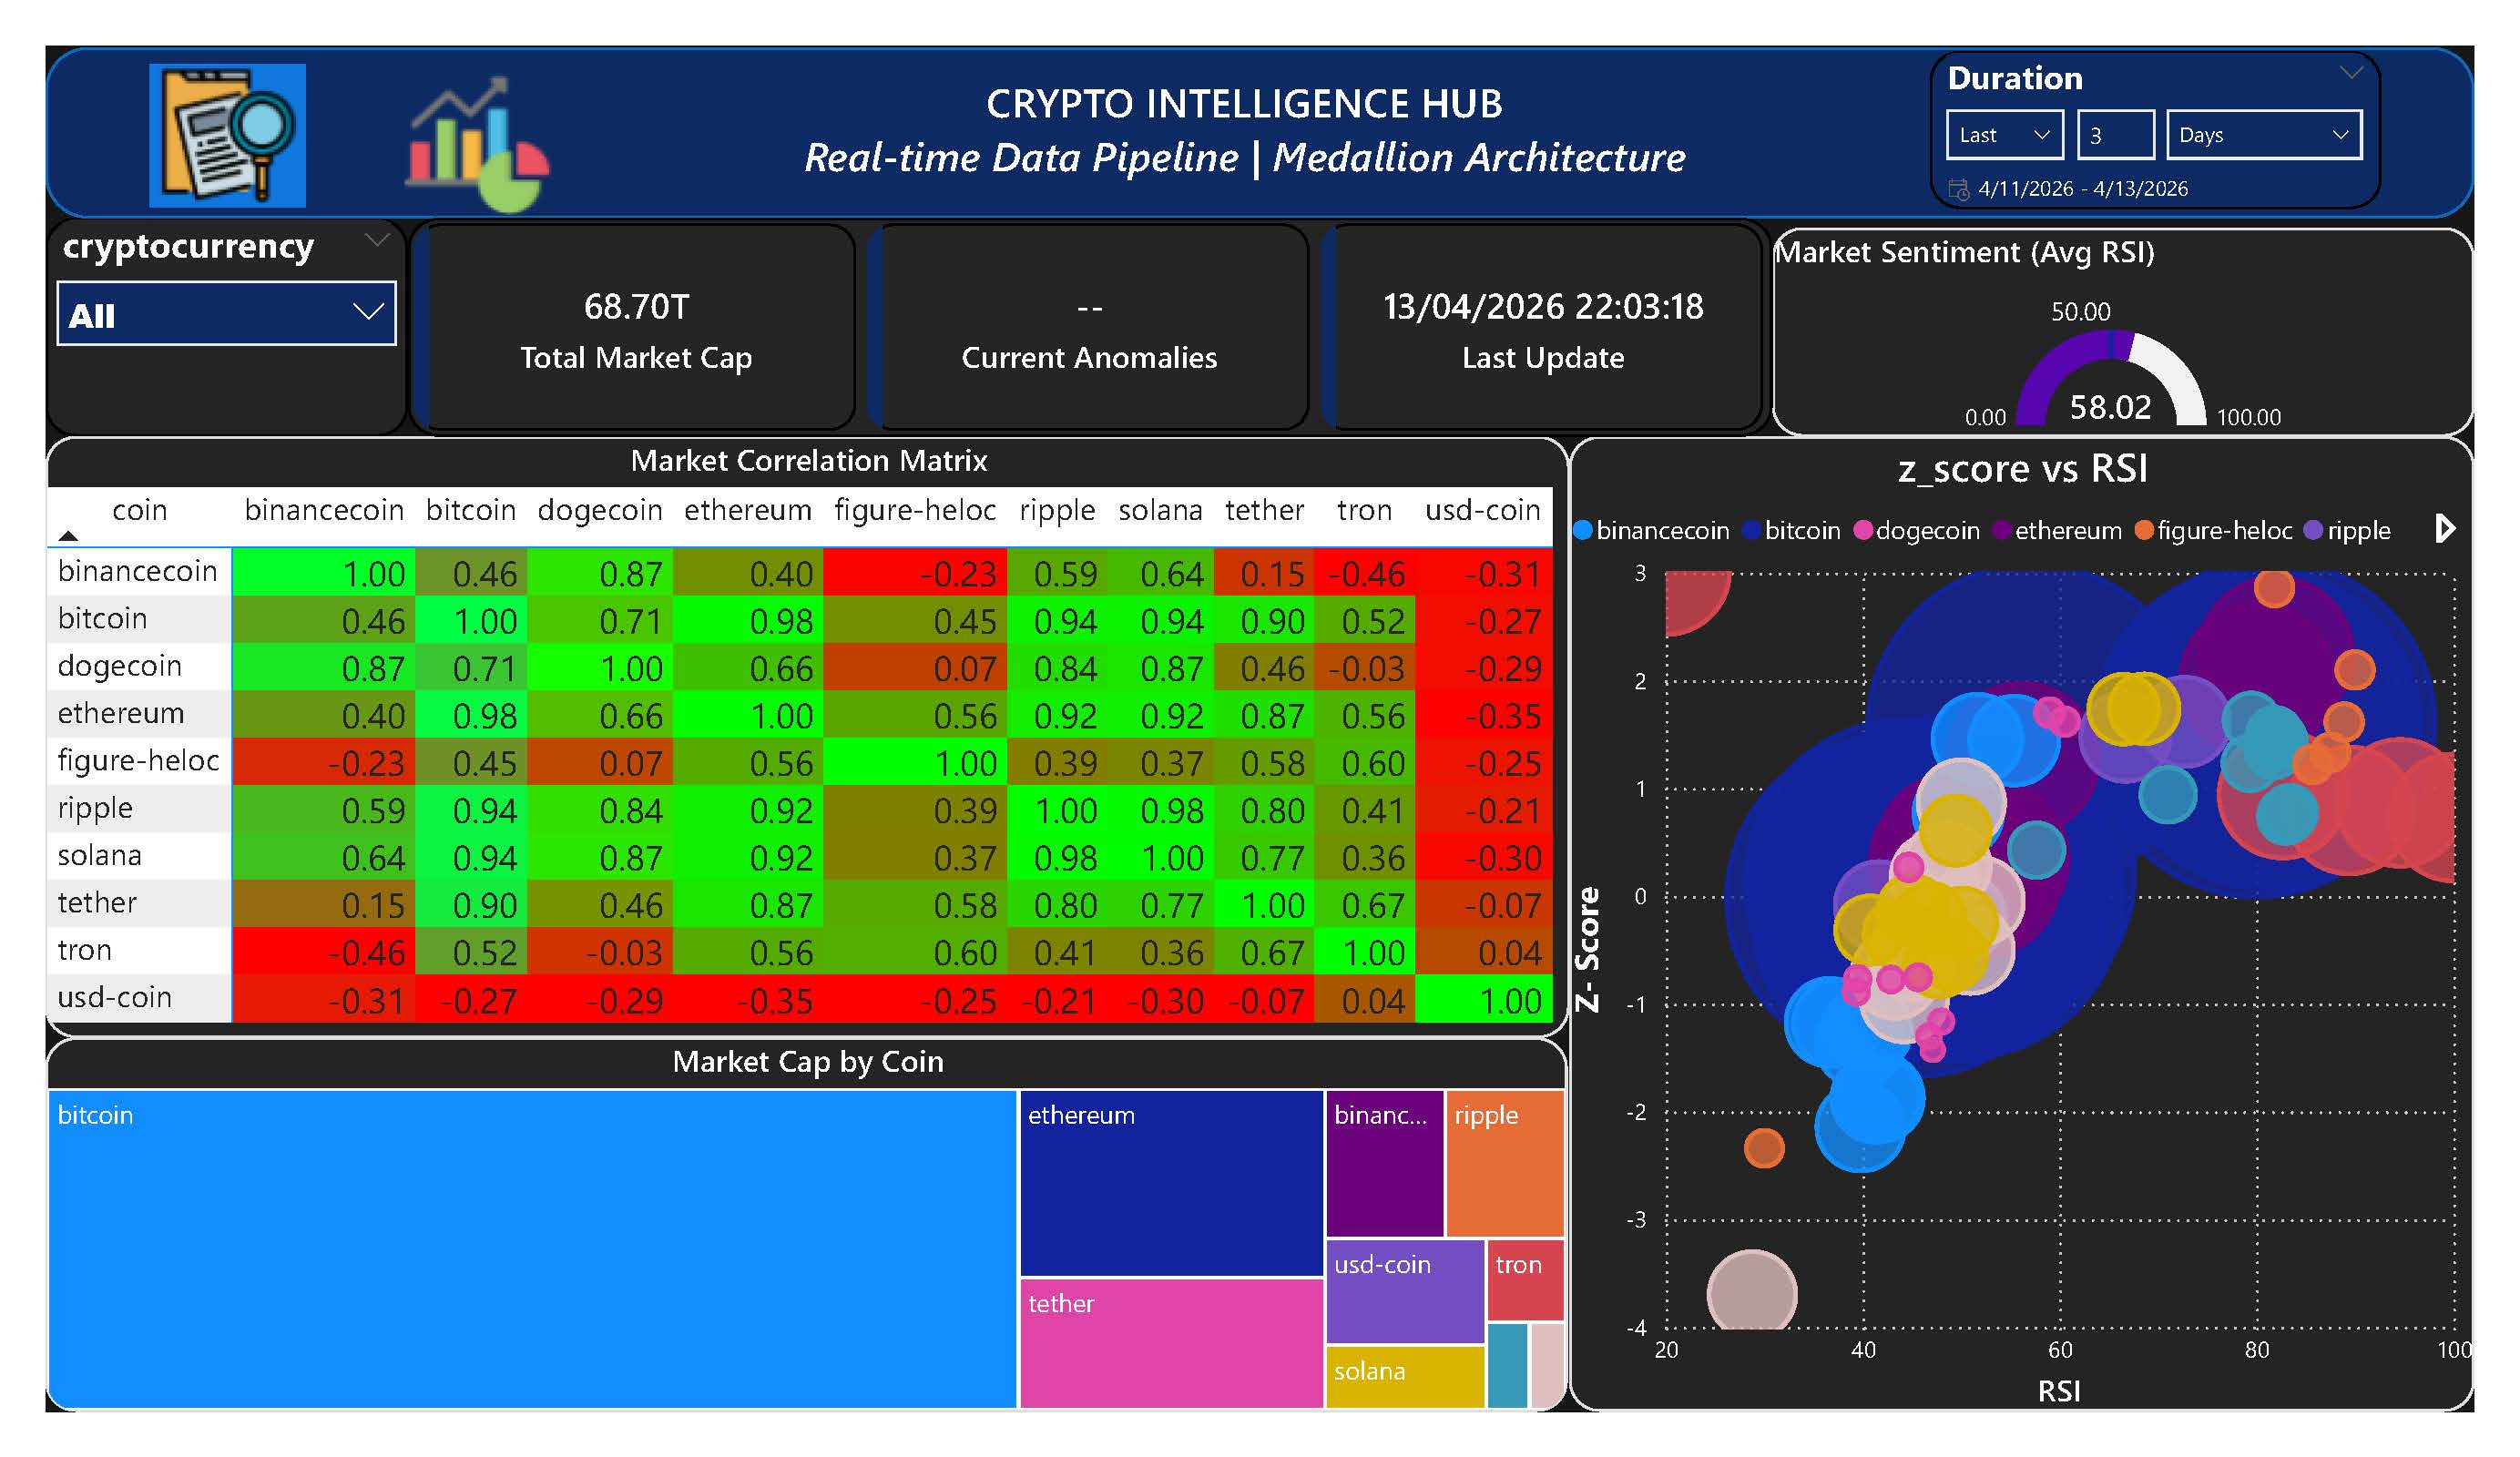

This screenshot's page, from the dashboard's own definition file:
{"tool":"powerbi","page":{"name":"Duplicate of Page 1","canvas":[1280,720],"ordinal":1},"visuals":[{"type":"scatterChart","title":"z_score vs RSI","fields":{"X":["public gold_fact_signals.rsi"],"Y":["Avg(public gold_fact_signals.z_score)"],"Series":["public gold_fact_signals.coin"],"Size":["Avg(public gold_fact_signals.market_cap)"]},"box":[802.9,205.7,477.1,514.3],"z":0},{"type":"slicer","fields":{"Values":["public dim_crypto_prices.coin"]},"box":[0,91.4,191.4,114.3],"z":1000},{"type":"pivotTable","title":"Market Correlation Matrix","fields":{"Rows":["public gold_fact_correlation.coin"],"Values":["Avg(public gold_fact_correlation.binancecoin)","Avg(public gold_fact_correlation.bitcoin)","Avg(public gold_fact_correlation.dogecoin)","Avg(public gold_fact_correlation.ethereum)","Avg(public gold_fact_correlation.figure-heloc)","Avg(public gold_fact_correlation.ripple)","Avg(public gold_fact_correlation.solana)","Avg(public gold_fact_correlation.tether)","Avg(public gold_fact_correlation.tron)","Avg(public gold_fact_correlation.usd-coin)"]},"box":[0,205.7,802.9,317.1],"z":2000},{"type":"shape","box":[0,1.4,1280,90],"z":3000},{"type":"textbox","box":[354.3,10,555.7,72.9],"z":4000},{"type":"slicer","title":"Duration","fields":{"Values":["public gold_fact_signals.timestamp"]},"box":[992.9,2.9,238.6,82.9],"z":5000},{"type":"gauge","title":"Market Sentiment (Avg RSI) ","fields":{"Y":["Avg(public gold_fact_signals.rsi)"]},"box":[910,95.7,370,110],"z":6000},{"type":"cardVisual","fields":{"Data":["public dim_crypto_prices.Total Market Cap","public gold_fact_signals.Active Alerts","public gold_fact_signals.Last Update"]},"box":[191.4,91.4,718.6,114.3],"z":7000},{"type":"treemap","title":"Market Cap by Coin","fields":{"Group":["public dim_crypto_prices.coin"],"Values":["Sum(public dim_crypto_prices.market_cap)"]},"box":[0,523,802.2,197],"z":8000},{"type":"actionButton","box":[175.7,12.8,103.5,79.4],"z":9000},{"type":"actionButton","box":[55.3,9.9,82.2,75.1],"z":10000}]}

Visuals, with their boxes on the page's 1280x720 design canvas (x1, y1, x2, y2). These are canvas units, not pixel positions in the 2520x1457 screenshot, which may show the page scaled, cropped or inside an application window:
"z_score vs RSI" scatterChart: bbox(803, 206, 1280, 720)
slicer - public dim_crypto_prices.coin: bbox(0, 91, 191, 206)
"Market Correlation Matrix" pivotTable: bbox(0, 206, 803, 523)
shape: bbox(0, 1, 1280, 91)
textbox: bbox(354, 10, 910, 83)
"Duration" slicer: bbox(993, 3, 1232, 86)
"Market Sentiment (Avg RSI) " gauge: bbox(910, 96, 1280, 206)
cardVisual - public dim_crypto_prices.Total Market Cap x public gold_fact_signals.Active Alerts: bbox(191, 91, 910, 206)
"Market Cap by Coin" treemap: bbox(0, 523, 802, 720)
actionButton: bbox(176, 13, 279, 92)
actionButton: bbox(55, 10, 138, 85)
